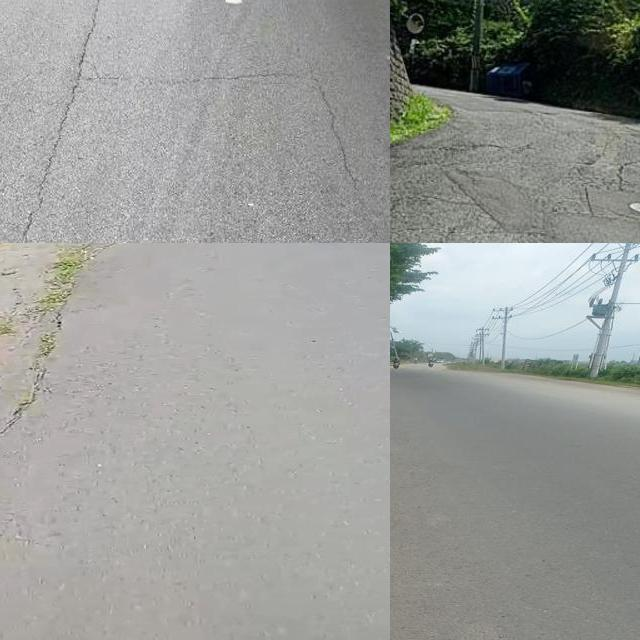Melintang: (46, 61, 337, 91)
Memanjang: (1, 0, 121, 243)
Pinggir: (0, 243, 151, 433)
